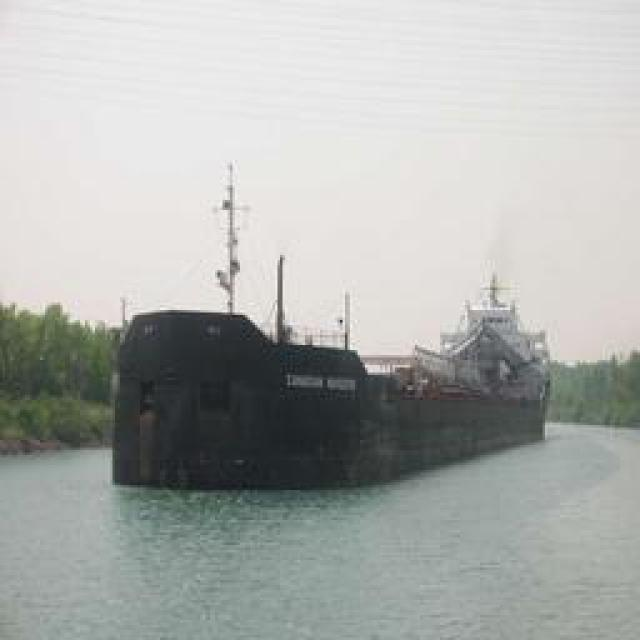Ship: (84, 258, 557, 496)
